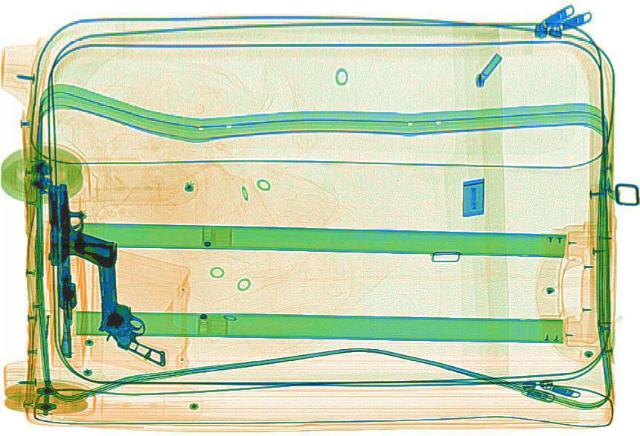Gun: (23, 182, 91, 351), (88, 237, 172, 364), (36, 182, 114, 264)
